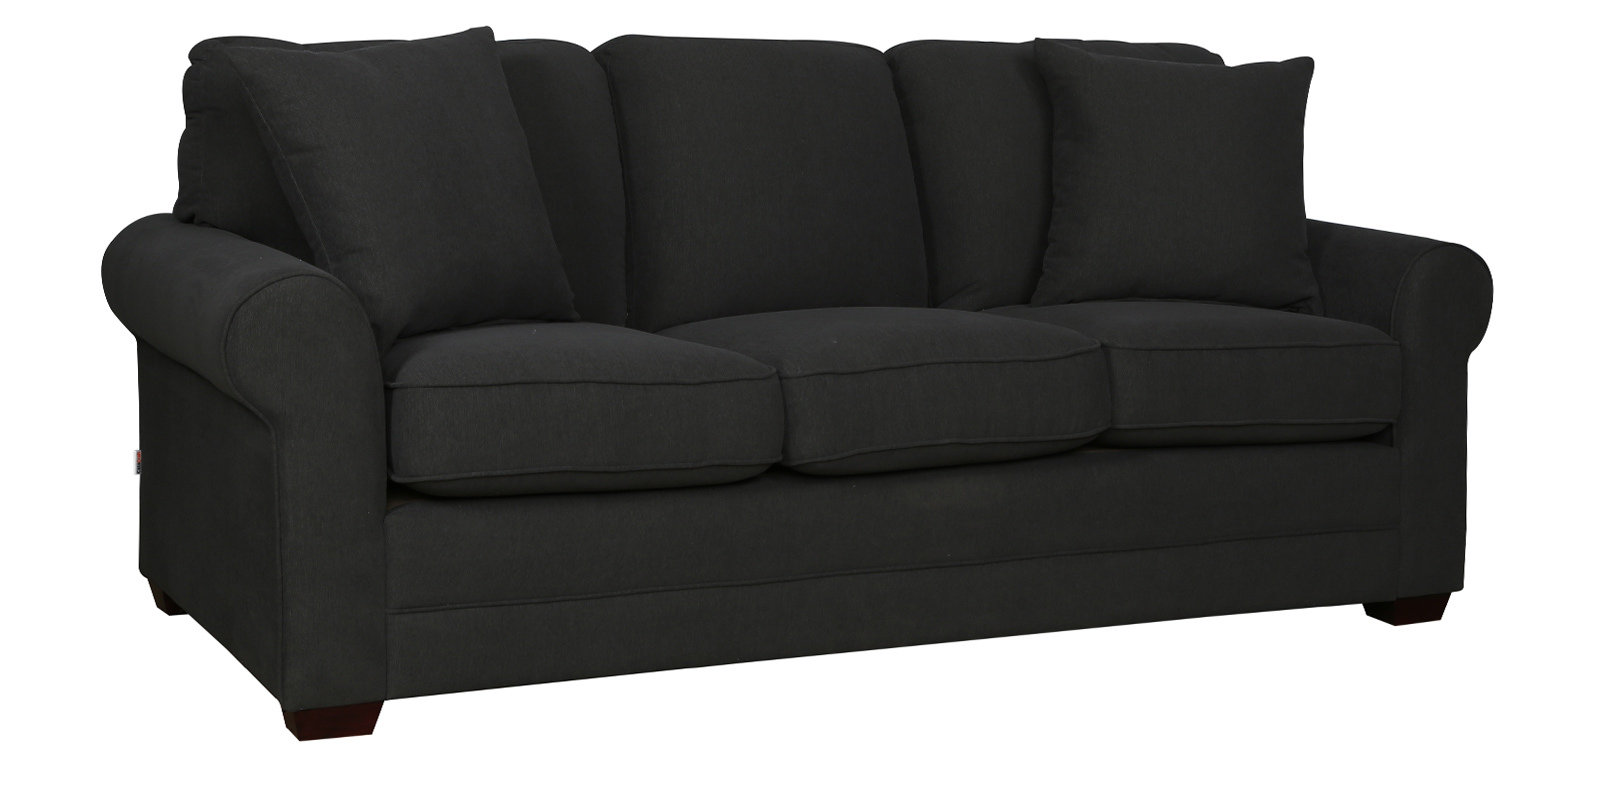Madeira Three Seater Sofa in Charcoal Grey Colour by CasaCraft: (100, 23, 1493, 742)
